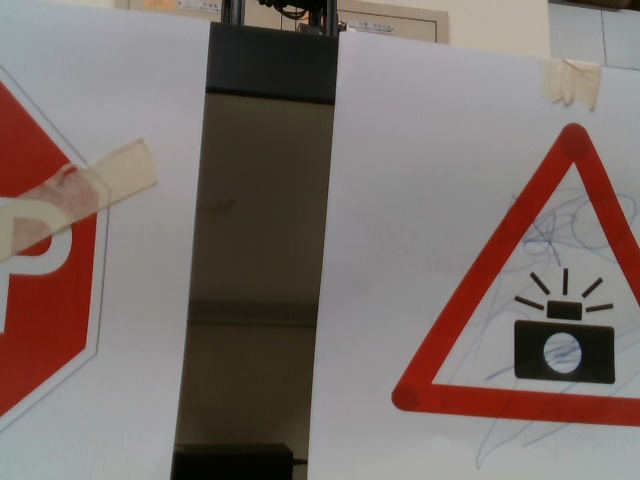camera: (391, 116, 640, 427)
